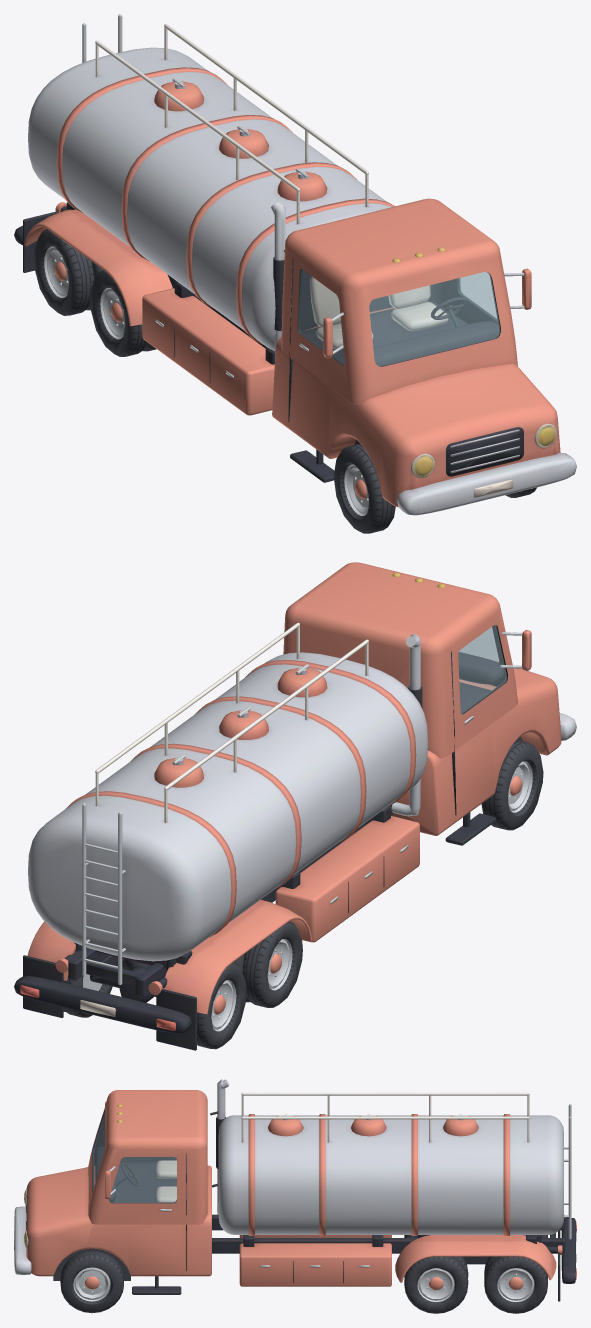
Rendered from veh_tanker.glb.
The picture shows the model from 3 angles, top to bottom: view 1: azimuth 30°, elevation 25°; view 2: azimuth 150°, elevation 25°; view 3: azimuth 270°, elevation 25°; orthographic projection. The views are drawn at different scales.
Parts seen in each view (by area): view 1: tanker-truck_body, tanker-truck_windows, tanker-truck_wheel_fl; view 2: tanker-truck_body, tanker-truck_wheel_fl, tanker-truck_windows; view 3: tanker-truck_body, tanker-truck_wheel_fl, tanker-truck_windows.
Part boxes in pixels (x1,y1,x2,y2): tanker-truck_body: (14,14,576,515); tanker-truck_windows: (299,270,499,366); tanker-truck_wheel_fl: (34,229,536,533); tanker-truck_body: (14,562,576,1050); tanker-truck_wheel_fl: (63,740,543,1049); tanker-truck_windows: (458,625,506,713); tanker-truck_body: (14,1079,576,1301); tanker-truck_wheel_fl: (60,1235,547,1313); tanker-truck_windows: (93,1113,176,1202).
Bounding box in the file's own units: 2.74 × 3.28 × 9.16.
Materials: 5 (2 with a texture image).
